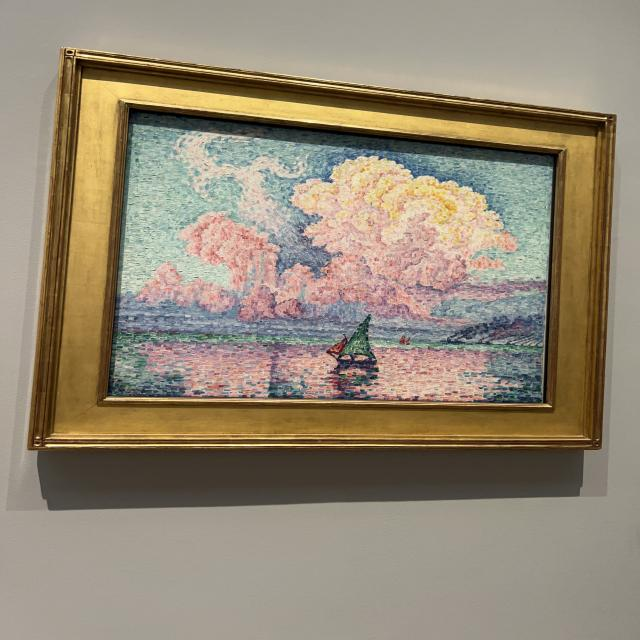sunrise: (113, 125, 550, 400)
